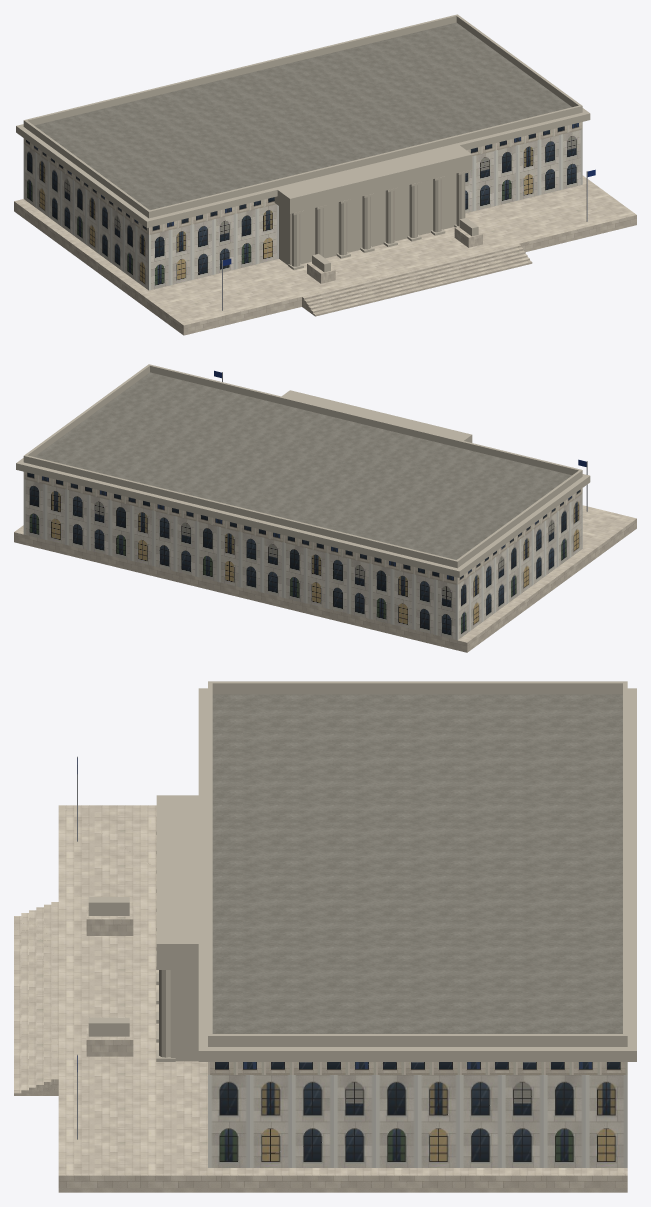
File: 076_public_library.glb
3 renders of one model, top to bottom at view 1: azimuth 30°, elevation 25°; view 2: azimuth 150°, elevation 25°; view 3: azimuth 270°, elevation 25°, orthographic. The views are drawn at different scales.
Parts seen in each view (by area): view 1: 076_public_library; view 2: 076_public_library; view 3: 076_public_library.
Boxes of the visible parts, left/top/right/bottom form: 076_public_library: left=14, top=14, right=636, bottom=335; 076_public_library: left=14, top=364, right=636, bottom=652; 076_public_library: left=14, top=681, right=636, bottom=1192.
Size of the model in its own units: 94 by 17.6 by 66.8.
Materials: 7 (4 with a texture image).
